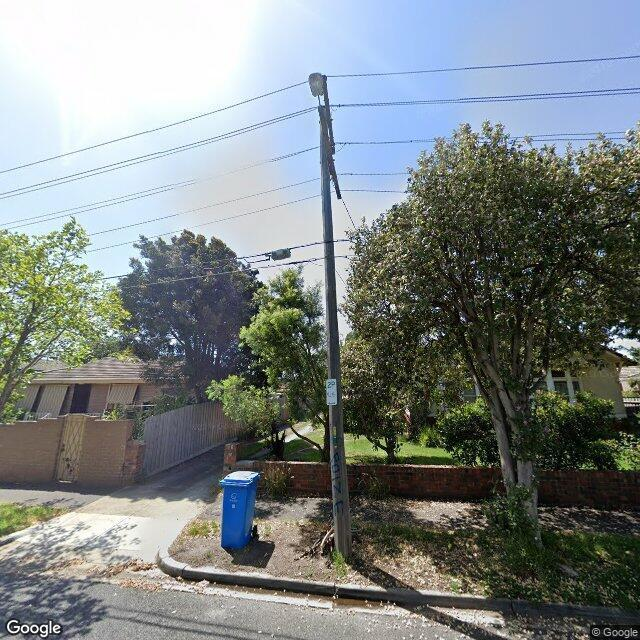crossarm: (326, 139, 342, 200), (323, 75, 335, 155)
streetlight: (309, 73, 325, 106)
timber-pole: (319, 106, 352, 562)
